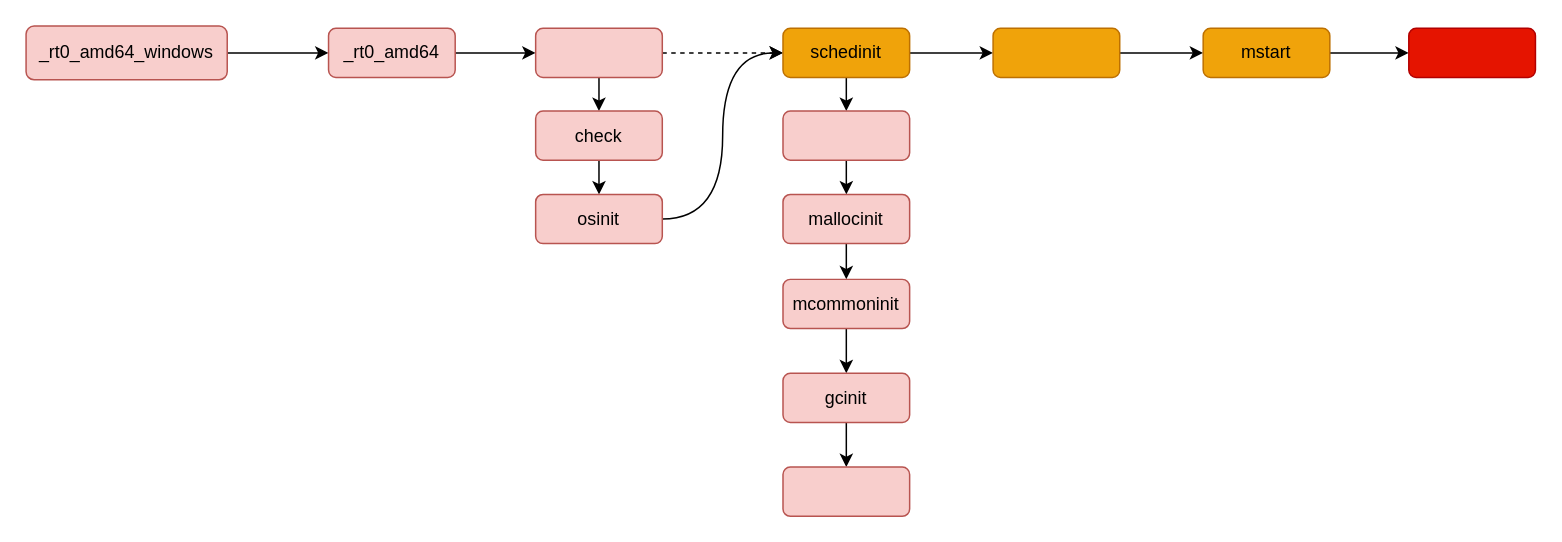
Image size: 1562x542. Some labels were removed from this diagram. The centre of each missing label's shape, as x and y in pixels:
"newproc" belongs at (x=1056, y=52).
"procresize" belongs at (x=846, y=491).
"rt0_go" belongs at (x=598, y=52).
"runtime·main" belongs at (x=1471, y=52).
"stackinit" belongs at (x=846, y=135).
